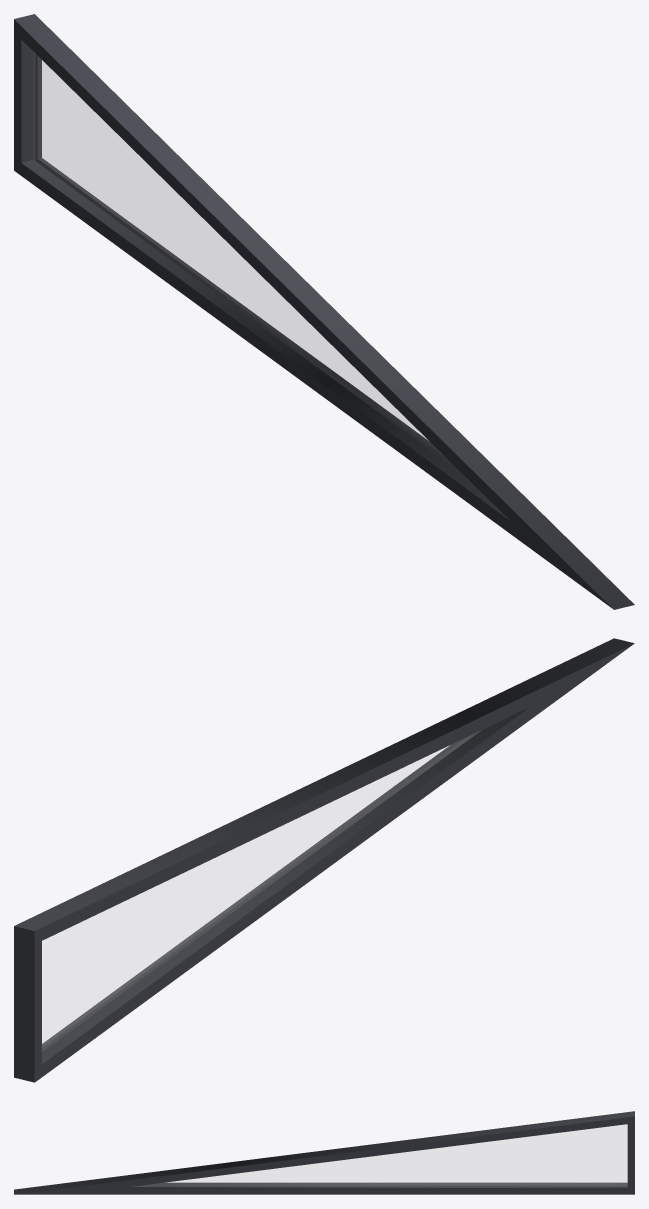
File: nebbiolo_side_gable_right_glass_400_250.glb
3 renders of one model, top to bottom at view 1: azimuth 30°, elevation 25°; view 2: azimuth 150°, elevation 25°; view 3: azimuth 270°, elevation 25°, orthographic. The views are drawn at different scales.
Visible parts, largest first — view 1: side_gable_right_glass_400_2510; view 2: side_gable_right_glass_400_2510; view 3: side_gable_right_glass_400_2510.
Part boxes in pixels (x1=…): side_gable_right_glass_400_2510: x1=14, y1=14, x2=634, y2=609; side_gable_right_glass_400_2510: x1=14, y1=638, x2=634, y2=1082; side_gable_right_glass_400_2510: x1=14, y1=1111, x2=634, y2=1194.
Size of the model in its own units: 0.05 by 0.3484 by 2.5.
Materials: 2 (1 with a texture image).
